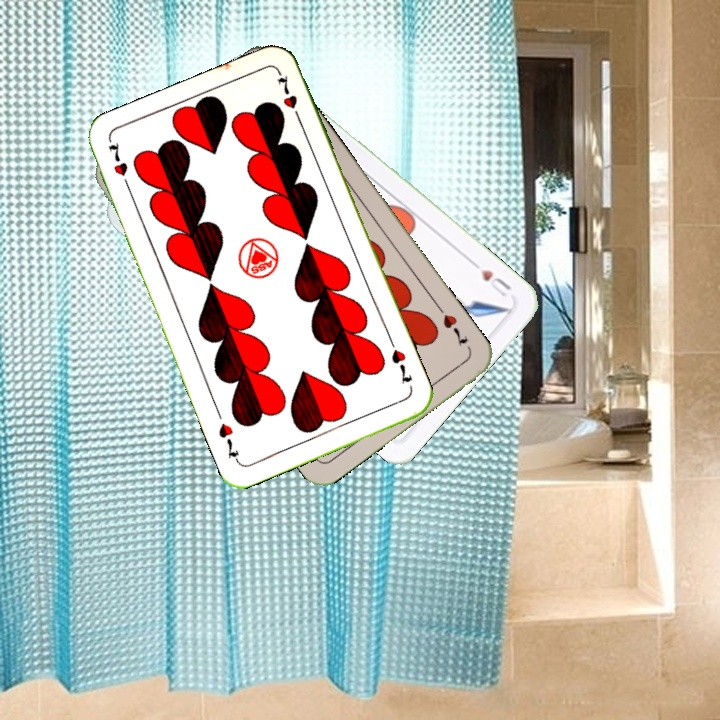H7: (432, 301, 471, 349), (104, 138, 134, 194), (387, 345, 415, 386)
HU: (476, 265, 514, 300)
